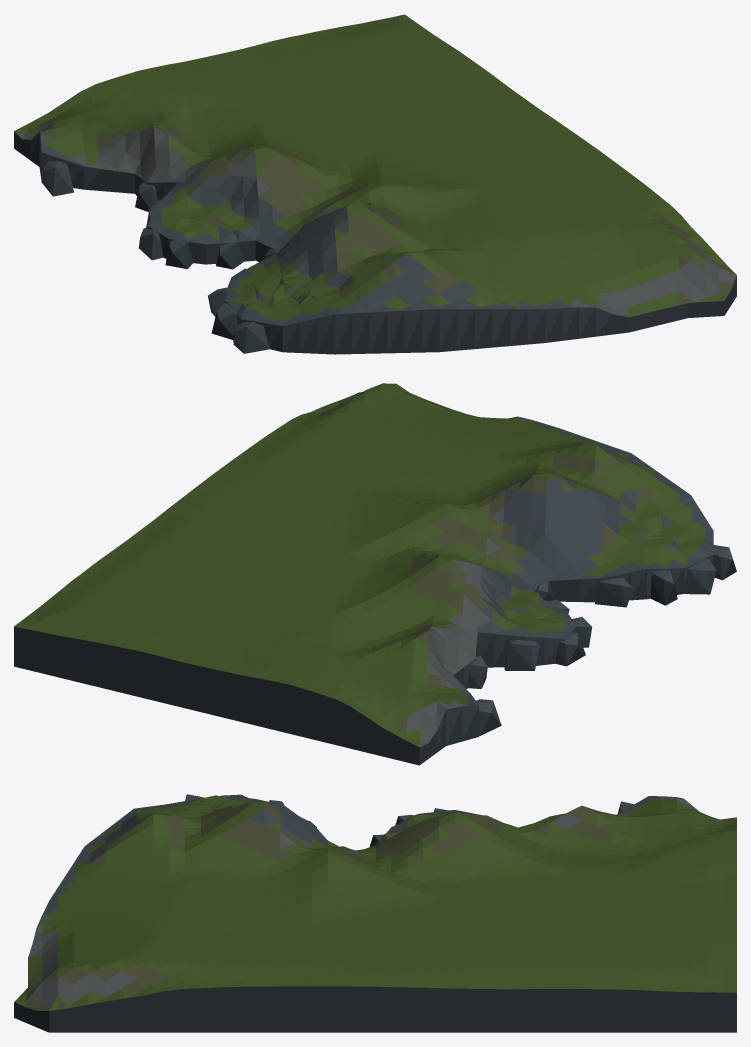
Rendered from mainland_headland.glb.
3 renders of one model, top to bottom at view 1: azimuth 30°, elevation 25°; view 2: azimuth 150°, elevation 25°; view 3: azimuth 270°, elevation 25°, orthographic. The views are drawn at different scales.
Visible parts, largest first — view 1: Mainland headland continuous bedrock and grass terraces; view 2: Mainland headland continuous bedrock and grass terraces; view 3: Mainland headland continuous bedrock and grass terraces.
Part boxes in pixels (x1,y1,x2,y2): Mainland headland continuous bedrock and grass terraces: (14, 14, 736, 354); Mainland headland continuous bedrock and grass terraces: (14, 383, 736, 765); Mainland headland continuous bedrock and grass terraces: (14, 794, 736, 1032).
Bounding box in the file's own units: 293 × 54.48 × 410.
